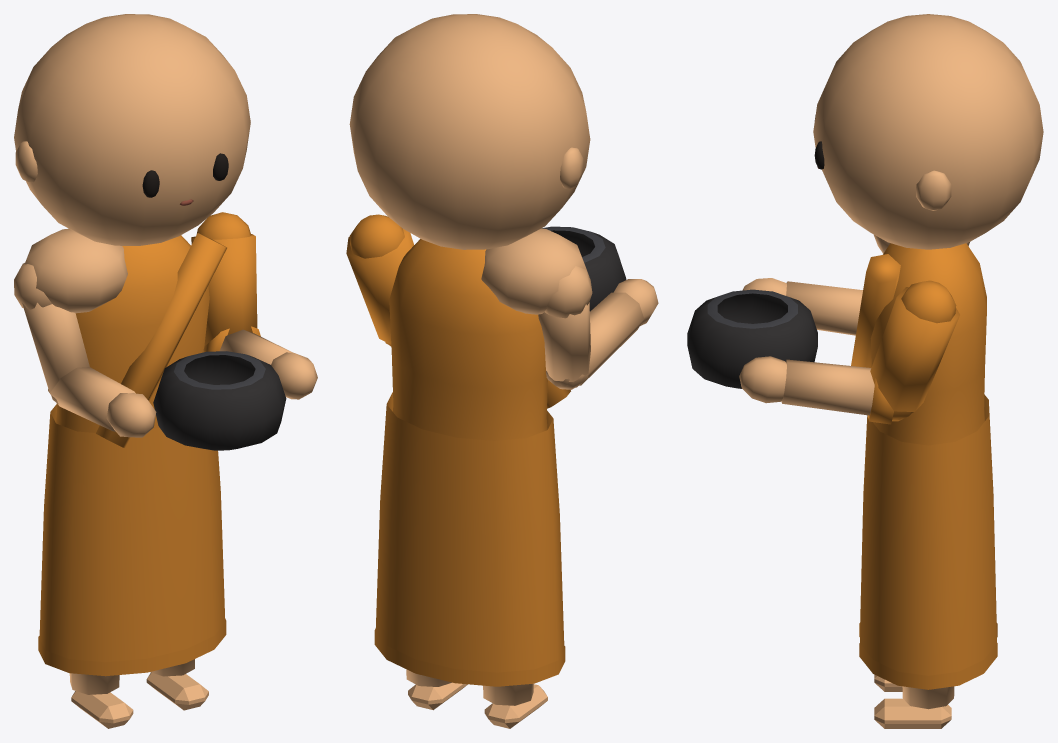
The model's file is monk.glb.
3 renders of one model, left to right at view 1: azimuth 30°, elevation 25°; view 2: azimuth 150°, elevation 25°; view 3: azimuth 270°, elevation 25°, orthographic.
Visible parts, largest first — view 1: body, head, prop_alms_bowl, arm_L, forearm_R, arm_R, forearm_L, shin_R, shin_L; view 2: body, head, arm_R, arm_L, forearm_R, prop_alms_bowl, shin_R, shin_L; view 3: body, head, prop_alms_bowl, arm_L, forearm_L, forearm_R, shin_L.
Boxes of the visible parts, box(x1,y1,x2,y2) form: body: box(25, 228, 226, 676); head: box(14, 14, 250, 245); prop_alms_bowl: box(153, 351, 286, 450); arm_L: box(191, 212, 257, 346); forearm_R: box(48, 367, 156, 437); arm_R: box(14, 263, 89, 404); forearm_L: box(203, 326, 317, 399); shin_R: box(69, 673, 133, 728); shin_L: box(146, 659, 208, 710); body: box(374, 228, 589, 686); head: box(349, 14, 590, 249); arm_R: box(538, 266, 592, 389); arm_L: box(346, 214, 413, 344); forearm_R: box(546, 279, 658, 387); prop_alms_bowl: box(542, 226, 626, 311); shin_R: box(483, 683, 547, 728); shin_L: box(406, 669, 467, 710); body: box(851, 235, 997, 689); head: box(813, 14, 1043, 249); prop_alms_bowl: box(687, 289, 817, 388); arm_L: box(870, 280, 959, 421); forearm_L: box(739, 356, 913, 424); forearm_R: box(742, 278, 862, 335); shin_L: box(874, 686, 954, 728).
Bounding box in the file's own units: 0.5287 × 1.46 × 0.6905.
